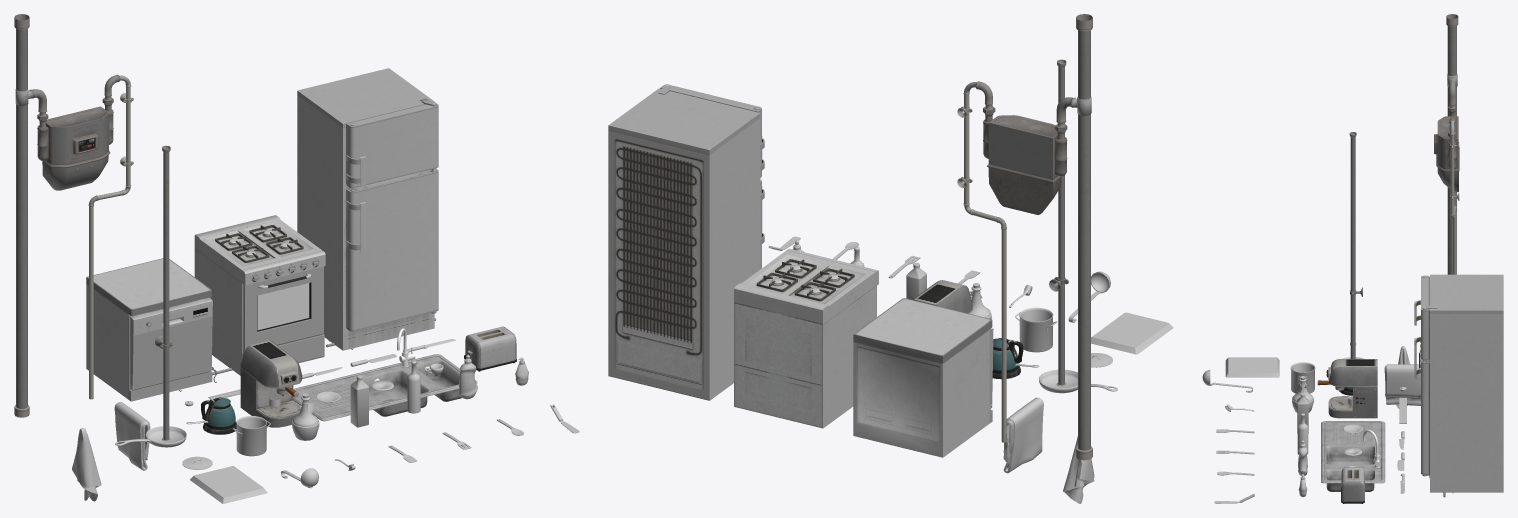
Rendered from KitchenAppliances.fbx.
3 views of the same model, side by side, from view 1: azimuth 30°, elevation 25°; view 2: azimuth 150°, elevation 25°; view 3: azimuth 270°, elevation 25° (orthographic). The views are drawn at different scales.
Visible parts, largest first — view 1: Refridgerator_A, Oven_A, Washing_Machine_A, Pipes_Kitchen_A, Sink_Kitchen_A, Coffeemachine_A, Pipes_Kitchen_A.001, Toaster_A, board_A, Towel_B, Towel_A, Pot_A (+6 smaller); view 2: Refridgerator_A, Oven_A, Washing_Machine_A, Pipes_Kitchen_A, Towel_B, board_A, Pipes_Kitchen_A.001, Pot_A, Coffeemachine_A, Towel_A, Boiler_A, Pan_A; view 3: Refridgerator_A, Sink_Kitchen_A, Pipes_Kitchen_A, Coffeemachine_A, Pipes_Kitchen_A.001, Towel_B, board_A, Toaster_A, Pot_A, Olive_Oil_A.
Part boxes in pixels (<box>): Refridgerator_A: <box>297,68,438,350</box>; Oven_A: <box>194,215,325,375</box>; Washing_Machine_A: <box>86,258,212,401</box>; Pipes_Kitchen_A: <box>14,14,133,417</box>; Sink_Kitchen_A: <box>293,328,477,421</box>; Coffeemachine_A: <box>240,340,302,427</box>; Pipes_Kitchen_A.001: <box>155,145,172,441</box>; Toaster_A: <box>464,326,516,371</box>; board_A: <box>190,466,267,503</box>; Towel_B: <box>114,402,150,470</box>; Towel_A: <box>72,428,101,501</box>; Pot_A: <box>232,416,270,456</box>; Refridgerator_A: <box>608,84,764,400</box>; Oven_A: <box>734,248,878,428</box>; Washing_Machine_A: <box>853,298,993,457</box>; Pipes_Kitchen_A: <box>957,14,1092,460</box>; Towel_B: <box>1003,397,1043,473</box>; board_A: <box>1091,312,1173,354</box>; Pipes_Kitchen_A.001: <box>1049,59,1068,386</box>; Pot_A: <box>1015,307,1057,352</box>; Coffeemachine_A: <box>912,280,972,313</box>; Towel_A: <box>1063,436,1094,503</box>; Boiler_A: <box>992,338,1023,379</box>; Pan_A: <box>1039,369,1117,393</box>; Refridgerator_A: <box>1414,274,1503,492</box>; Sink_Kitchen_A: <box>1321,421,1385,491</box>; Pipes_Kitchen_A: <box>1434,14,1459,274</box>; Coffeemachine_A: <box>1317,359,1377,418</box>; Pipes_Kitchen_A.001: <box>1349,132,1362,358</box>; Towel_B: <box>1384,364,1420,405</box>; board_A: <box>1225,357,1279,377</box>; Toaster_A: <box>1341,467,1364,503</box>; Pot_A: <box>1290,362,1315,393</box>; Olive_Oil_A: <box>1292,376,1313,412</box>.
Size of the model in its own units: 401 by 415 by 300.
